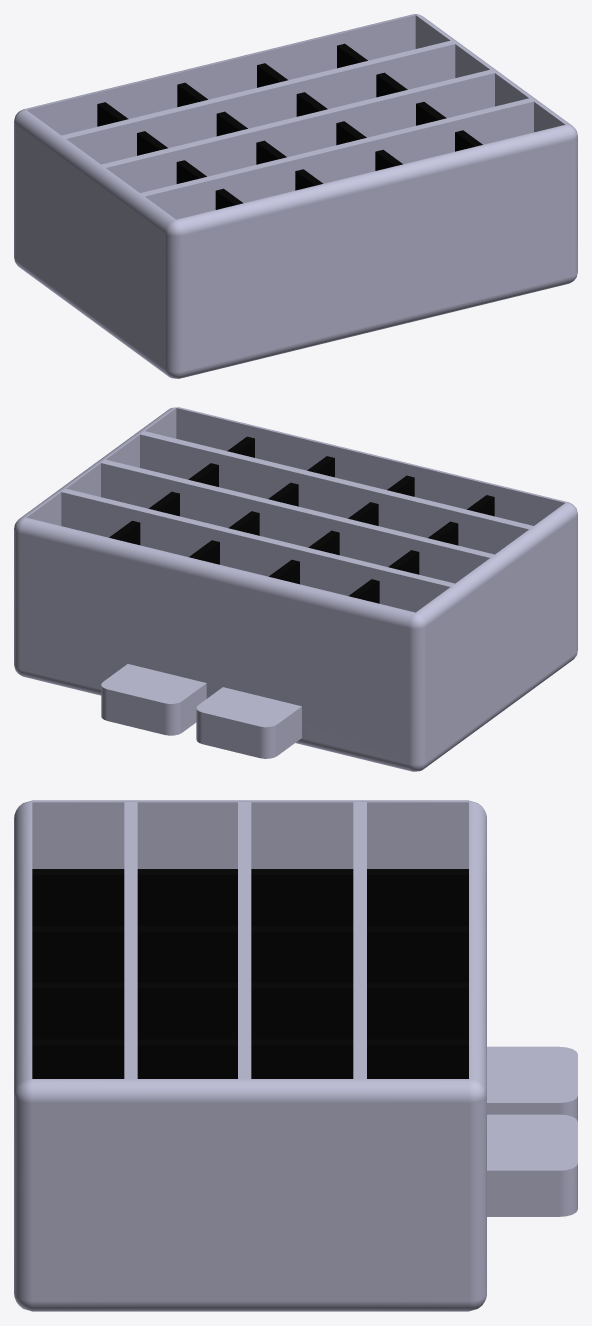
Rendered from ergoflex-shelf-organizer.glb.
The picture shows the model from 3 angles, top to bottom: view 1: azimuth 30°, elevation 25°; view 2: azimuth 150°, elevation 25°; view 3: azimuth 270°, elevation 25°; orthographic projection. The views are drawn at different scales.
Parts seen in each view (by area): view 1: Mesh_0, Mesh_1; view 2: Mesh_0, Mesh_1; view 3: Mesh_0, Mesh_1.
Part boxes in pixels (x1=…): Mesh_0: x1=14, y1=14, x2=577, y2=378; Mesh_1: x1=97, y1=43, x2=482, y2=209; Mesh_0: x1=14, y1=407, x2=577, y2=771; Mesh_1: x1=109, y1=436, x2=494, y2=603; Mesh_0: x1=14, y1=800, x2=577, y2=1311; Mesh_1: x1=32, y1=869, x2=468, y2=1078.
Bounding box in the file's own units: 0.34 × 0.1253 × 0.2774.
